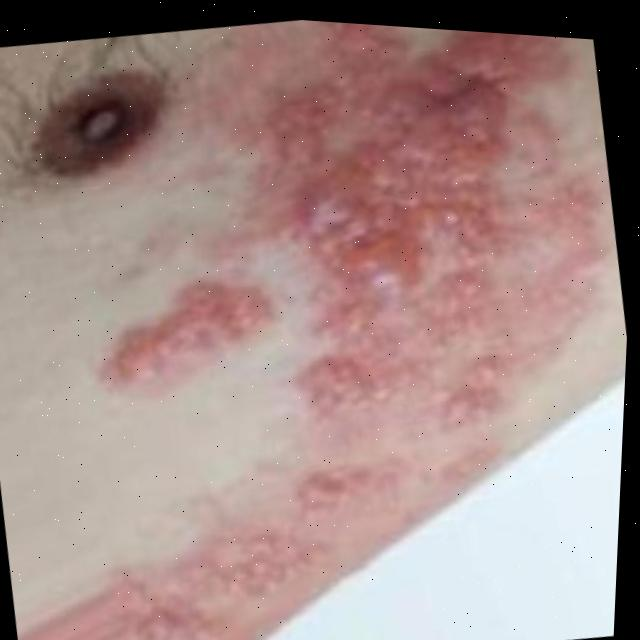Shingles: (225, 16, 549, 543), (93, 254, 251, 390), (176, 523, 293, 626)
